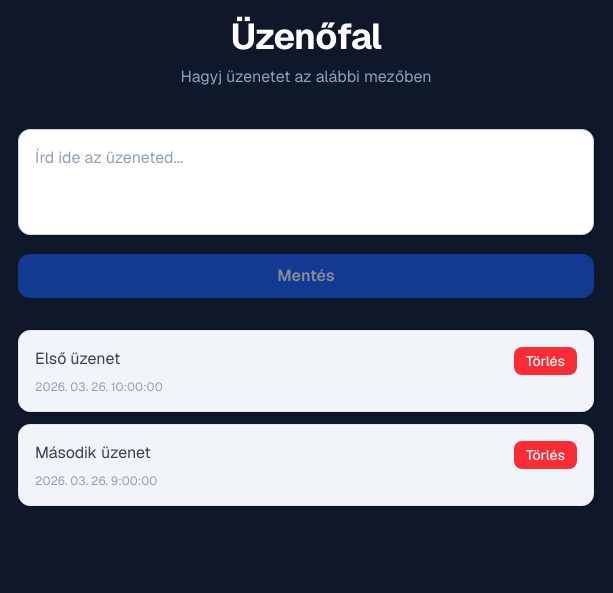
Test: Üzenőfal › shows error message when save fails
Expected: the text "Első üzenet" is shown, [35, 348, 120, 369]
In the text box with placeholder "Írd ide az üzeneted...": (306, 182) [18, 129, 594, 235], type "Hibás üzenet"
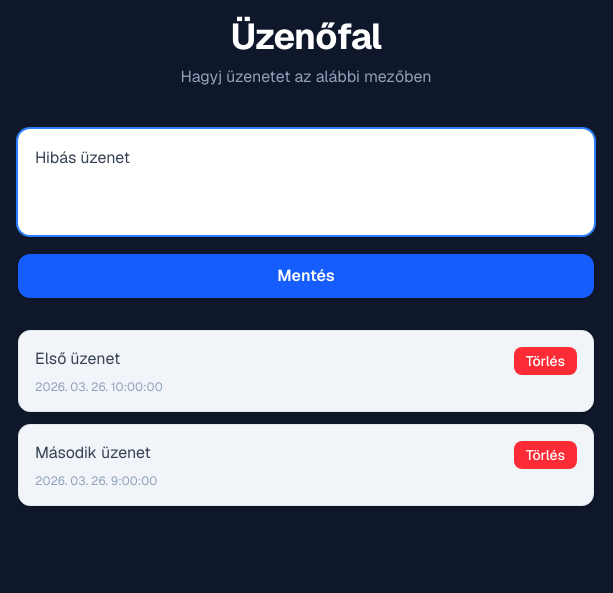
Click the button "Mentés": (306, 276) [18, 254, 594, 298]
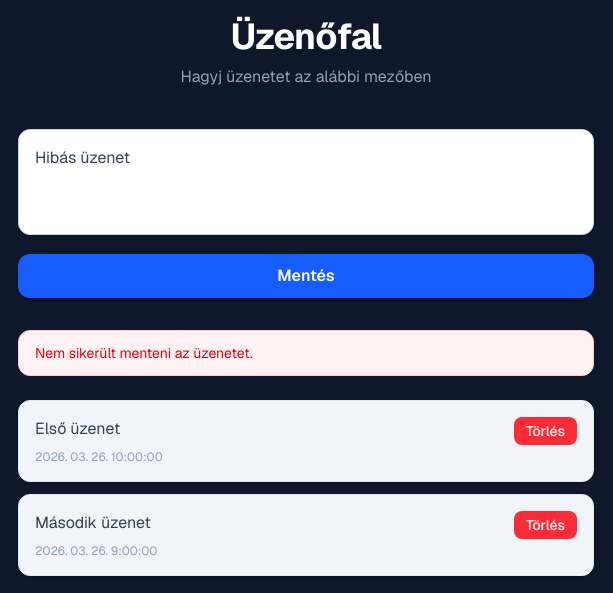
Result: the text "Nem sikerült menteni az üzenetet." is shown at [18, 330, 594, 376]
